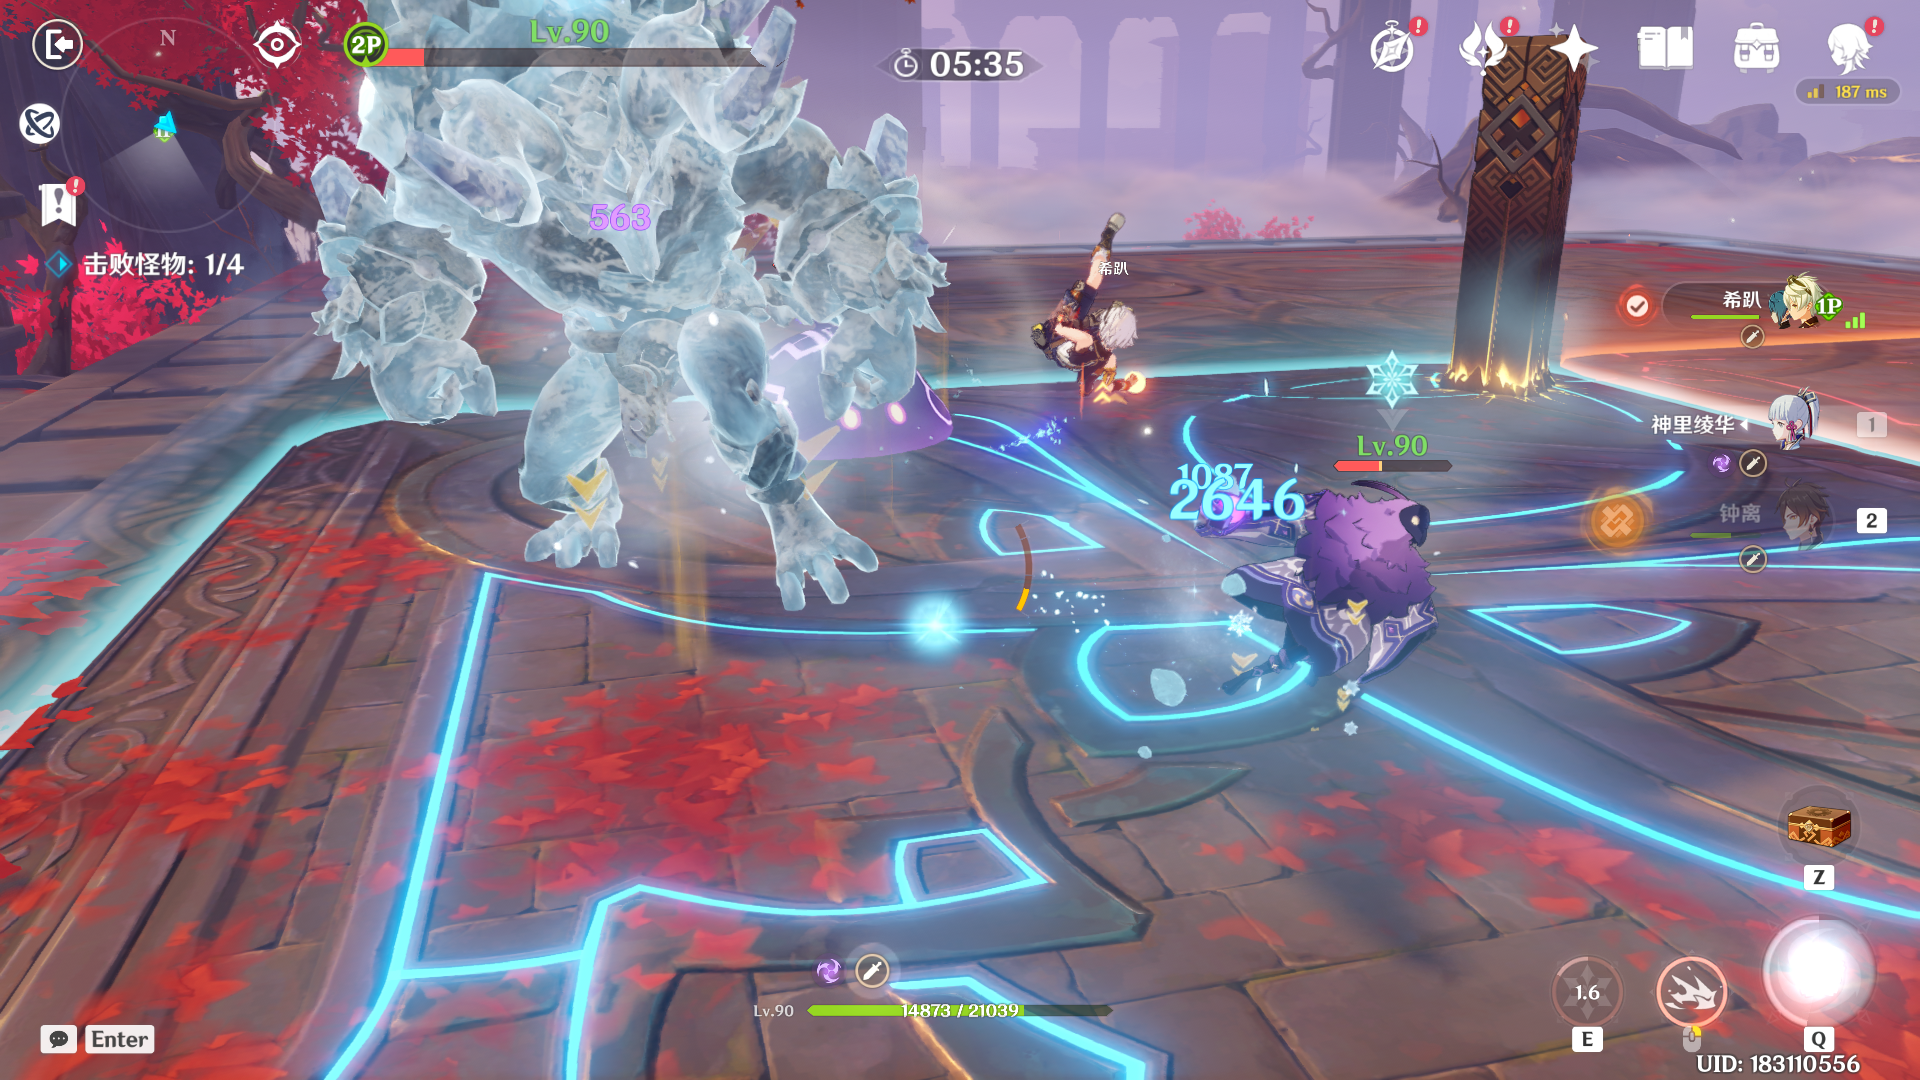bosshili: (193, 1, 977, 615)
caster: (1187, 425, 1486, 762)
character: (1018, 194, 1184, 425)
